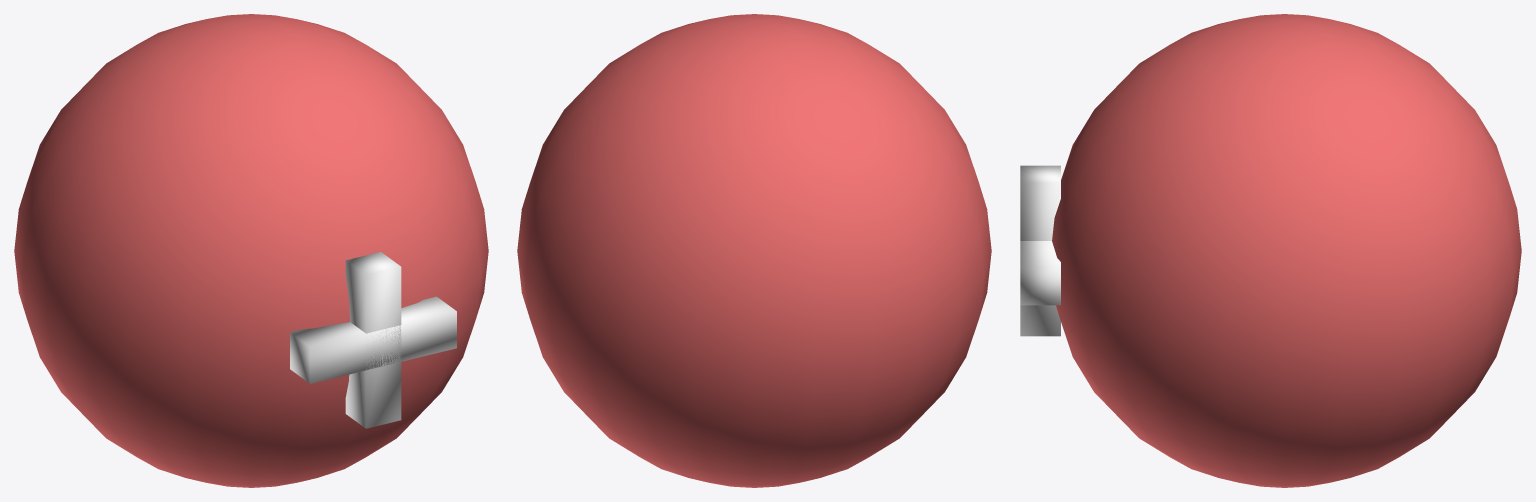
The model's file is proton.glb.
The picture shows the model from 3 angles, left to right: view 1: azimuth 30°, elevation 25°; view 2: azimuth 150°, elevation 25°; view 3: azimuth 270°, elevation 25°; orthographic projection.
Visible parts, largest first — view 1: core, plus_h, plus_v; view 2: core; view 3: core, plus_v, plus_h.
Boxes of the visible parts, x1,y1,x2,y2 form: core: (14,14,488,487); plus_h: (290,296,456,383); plus_v: (345,252,401,428); core: (517,14,991,487); core: (1052,14,1521,487); plus_v: (1020,165,1060,336); plus_h: (1020,241,1060,305).
Size of the model in its own units: 1.4 by 1.4 by 1.48.
